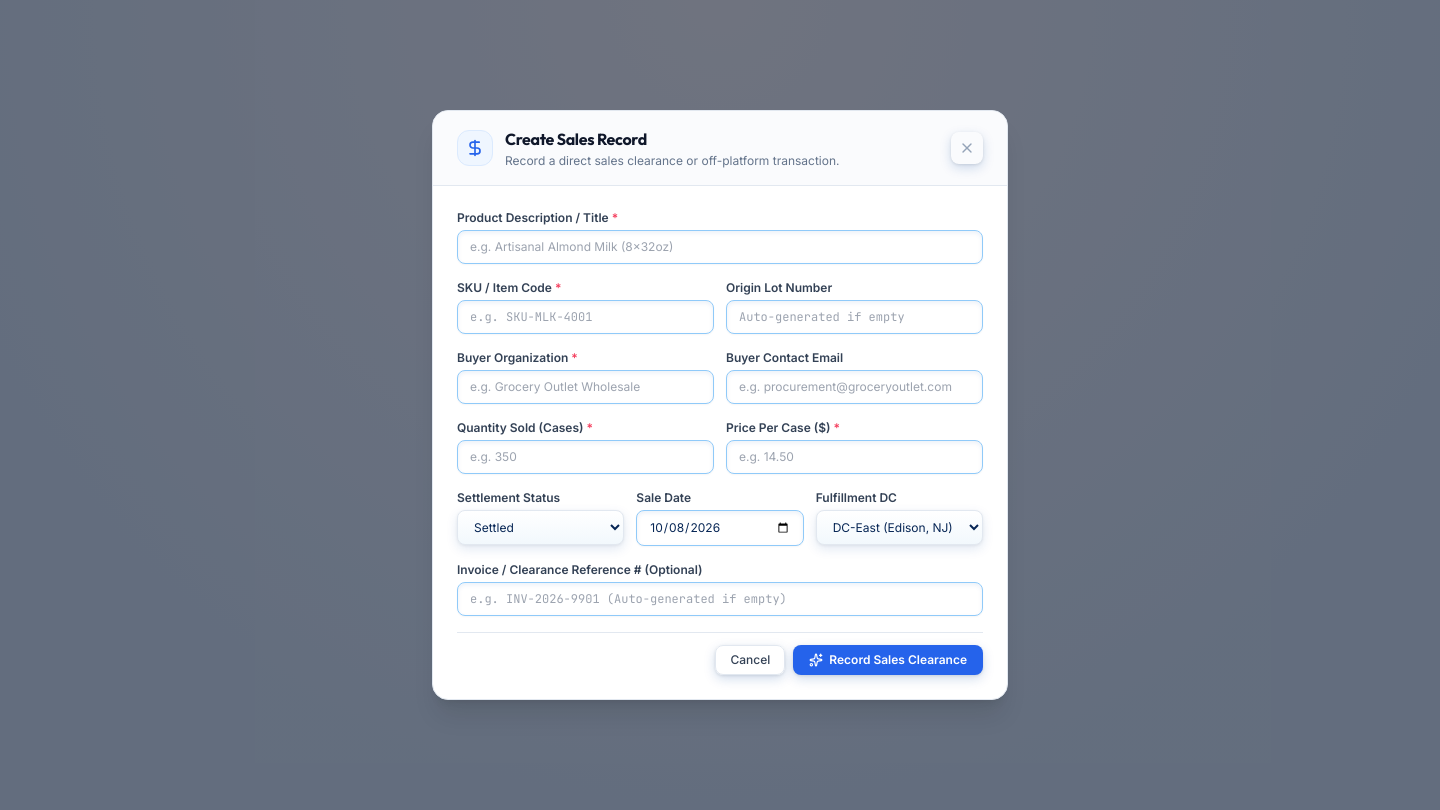
Contextual Record Creation & Streamlined Tab Naming › CreateSalesModal displays validation error when product title or required fields are missing
# Submit empty form
What coordinates should you click on to do the following:
click the button "Record Sales Clearance"
I would click on:
 (888, 660)
Its box is [793, 645, 983, 675].
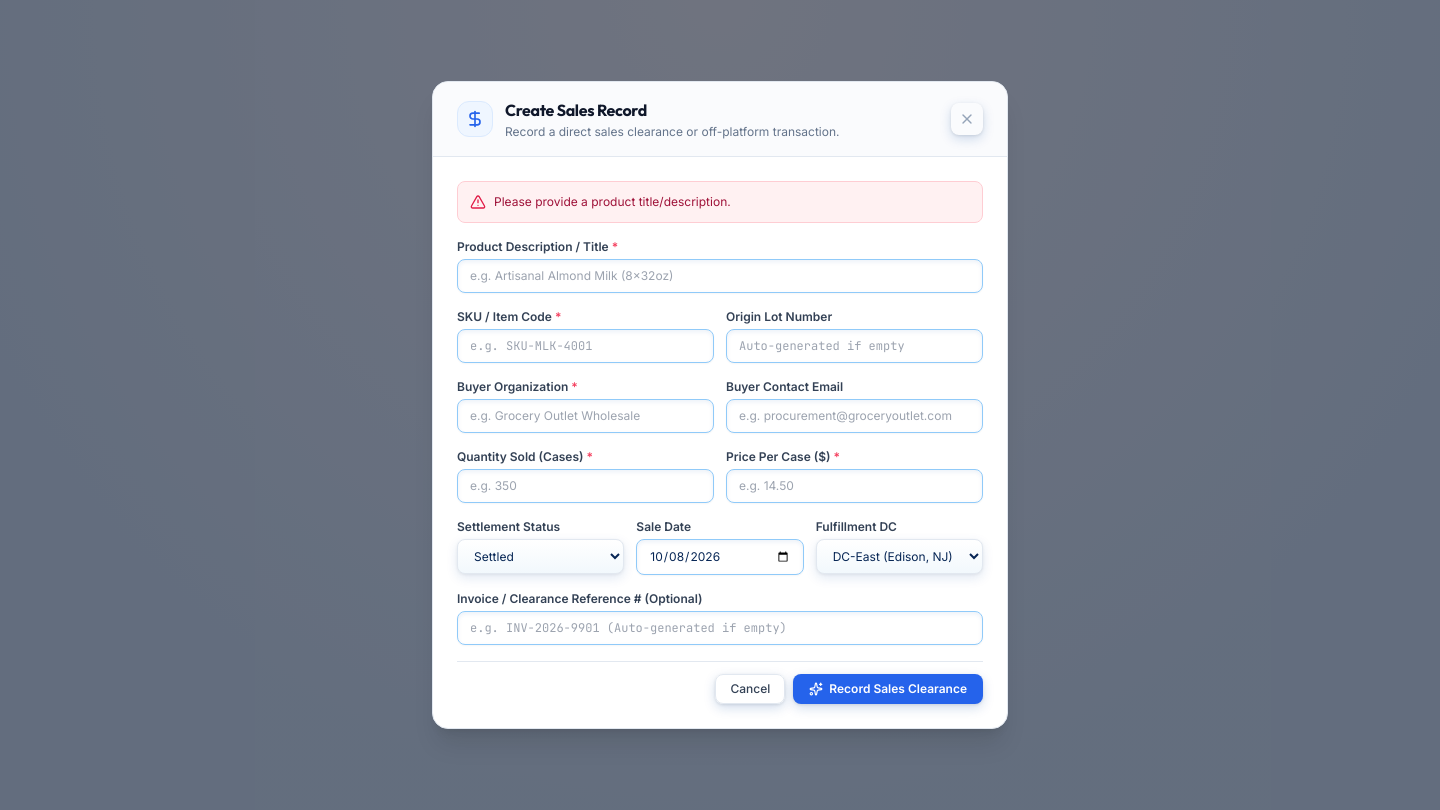
expect the text "Please provide a product title/description." is shown: met, box [494, 194, 731, 210]
